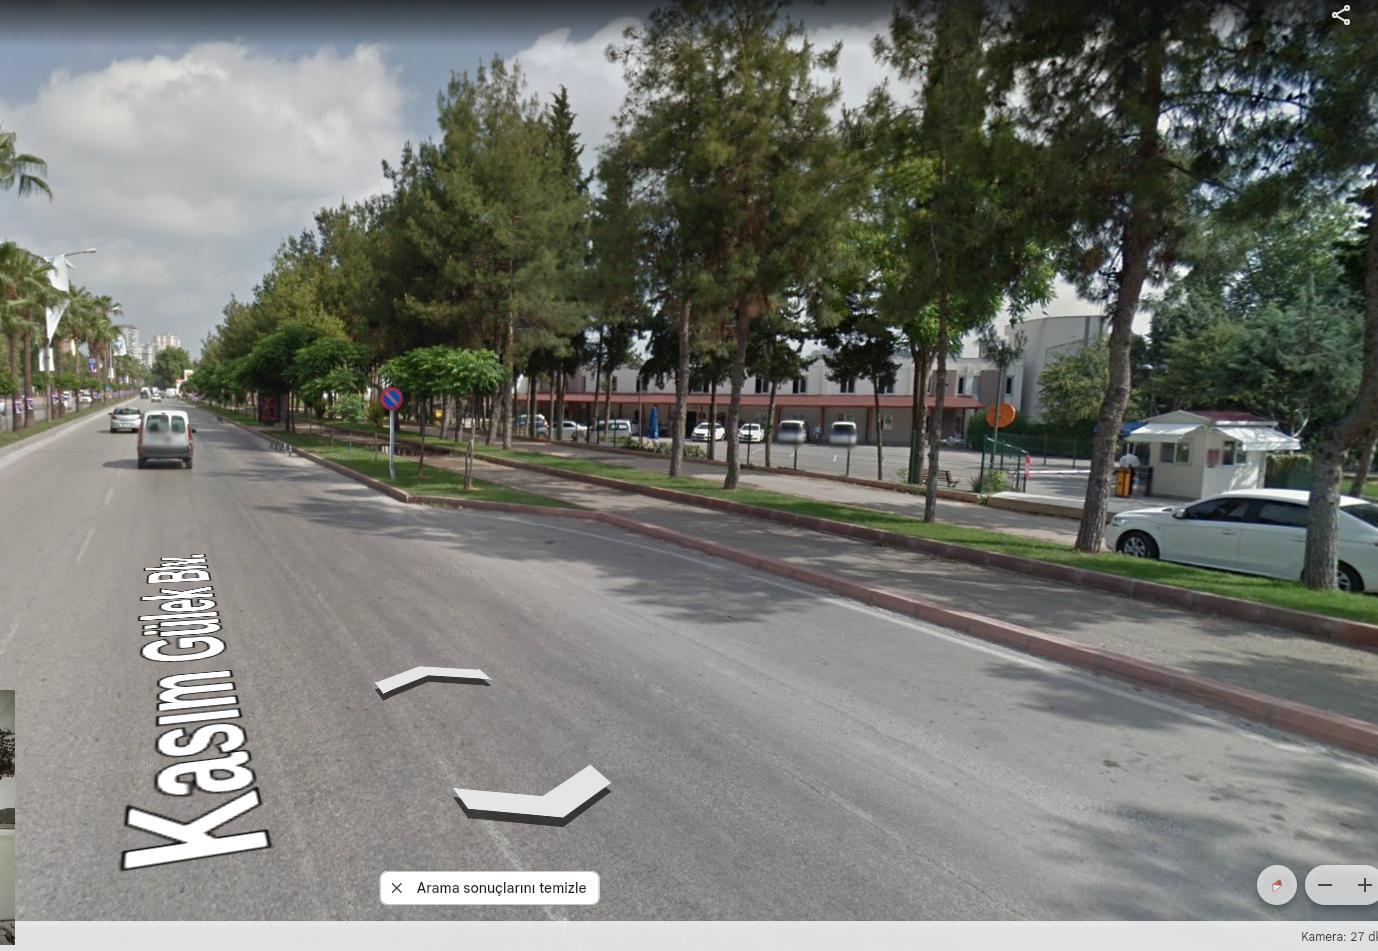nopark: (380, 388, 404, 411)
